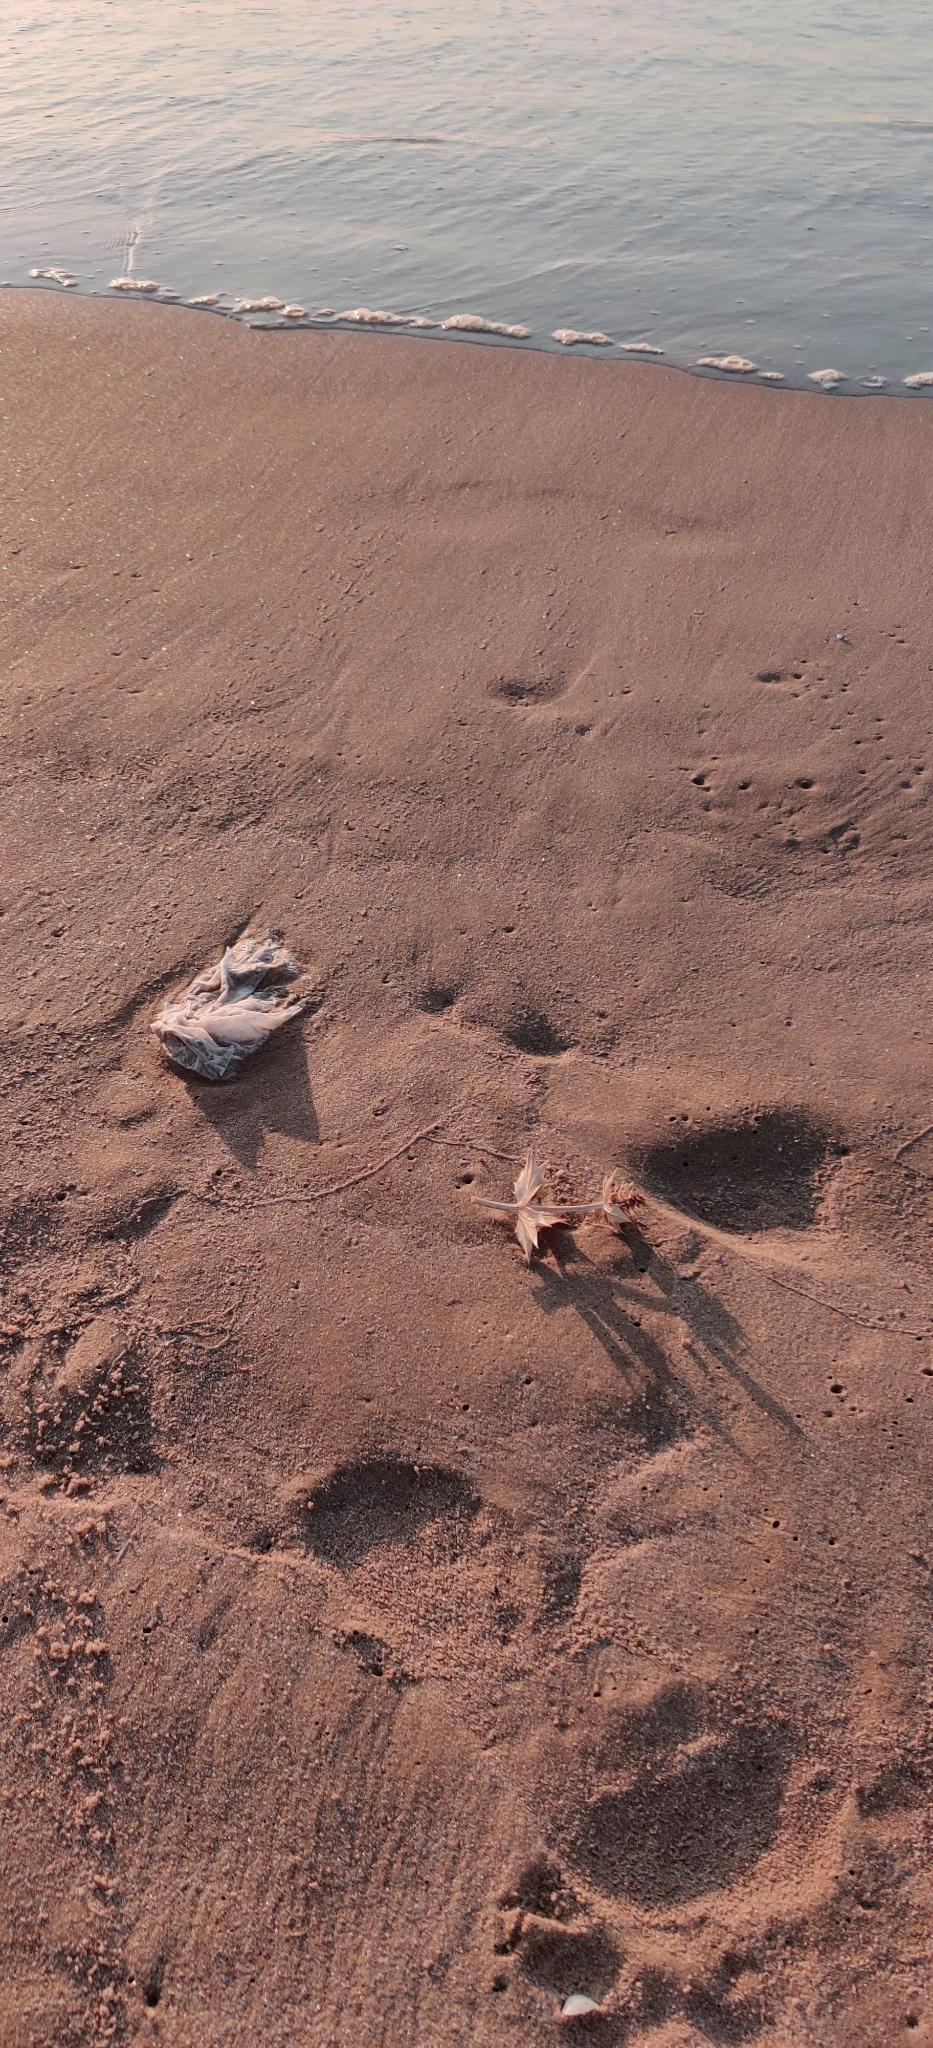Plastic: (131, 910, 318, 1101)
